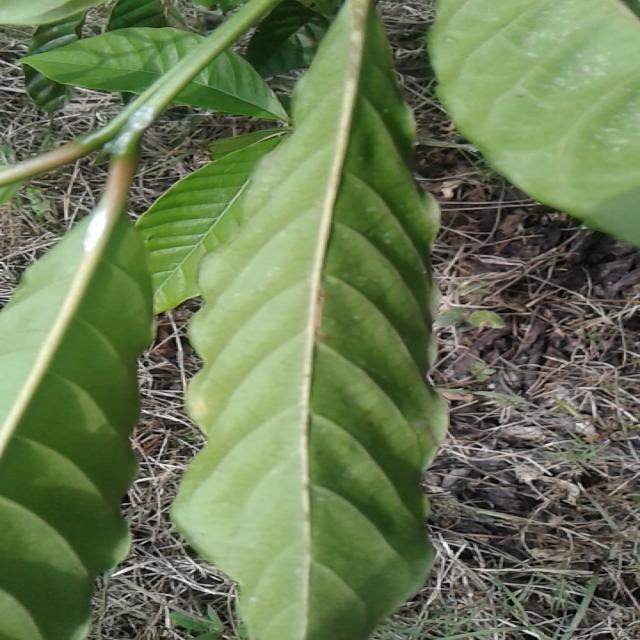Enfermedad-Roya: (177, 0, 449, 640)
